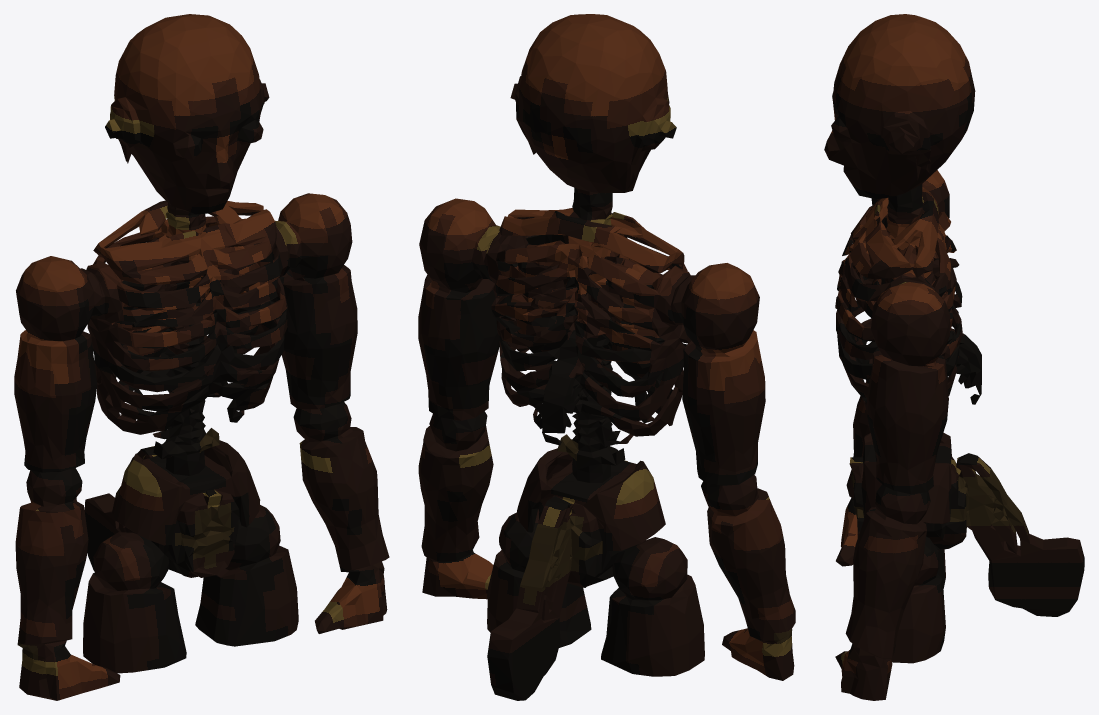
The model's file is dealer.glb.
3 views of the same model, side by side, from view 1: azimuth 30°, elevation 25°; view 2: azimuth 150°, elevation 25°; view 3: azimuth 270°, elevation 25° (orthographic). The views are drawn at different scales.
Parts seen in each view (by area): view 1: Body, Head, Lid; view 2: Body, Head, Lid; view 3: Body, Head, Lid.
Boxes of the visible parts, x1,y1,x2,y2 form: Body: [14, 193, 389, 700]; Head: [105, 75, 269, 214]; Lid: [116, 14, 259, 104]; Body: [418, 198, 795, 700]; Head: [510, 72, 676, 209]; Lid: [521, 14, 665, 105]; Body: [835, 170, 1084, 700]; Head: [824, 71, 975, 202]; Lid: [838, 14, 971, 102].
Size of the model in its own units: 1.52 by 2.47 by 0.9808.
Materials: 2 (1 with a texture image).
